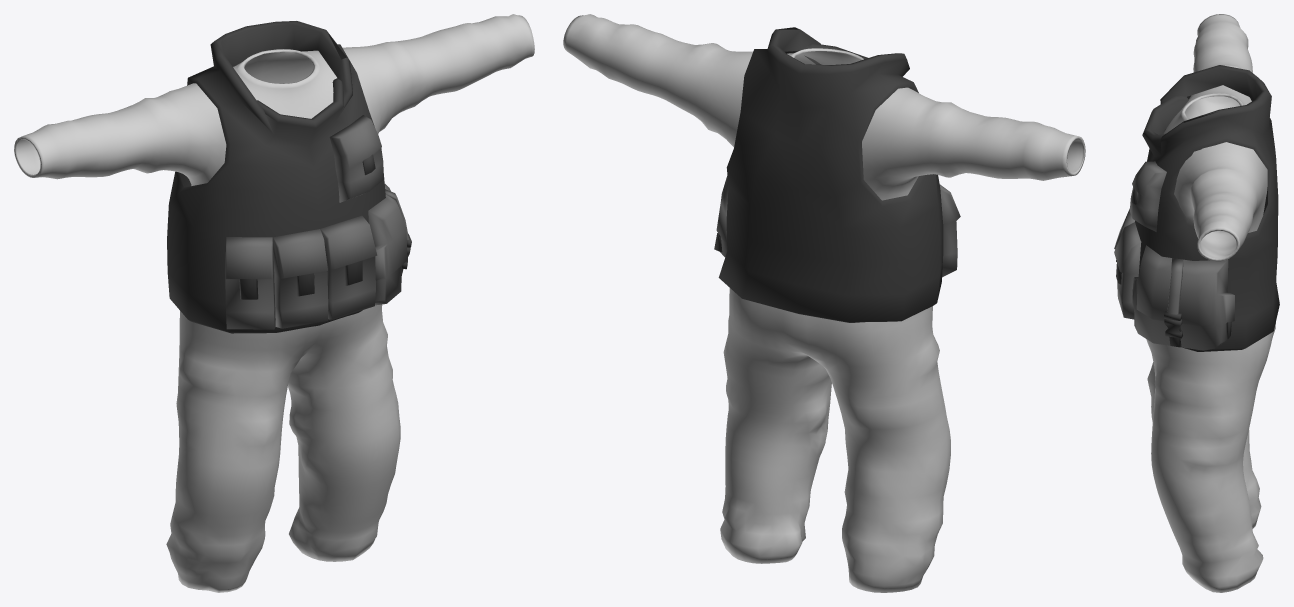
Rendered from overalls.002.fbx.
3 views of the same model, side by side, from view 1: azimuth 30°, elevation 25°; view 2: azimuth 150°, elevation 25°; view 3: azimuth 270°, elevation 25° (orthographic). The views are drawn at different scales.
Parts seen in each view (by area): view 1: overalls.002; view 2: overalls.002; view 3: overalls.002.
Part boxes in pixels (box(x1,y1,x2,y2)): overalls.002: box(14, 14, 534, 592); overalls.002: box(563, 14, 1085, 592); overalls.002: box(1114, 14, 1279, 592).
Bounding box in the file's own units: 209 × 208 × 67.46.
